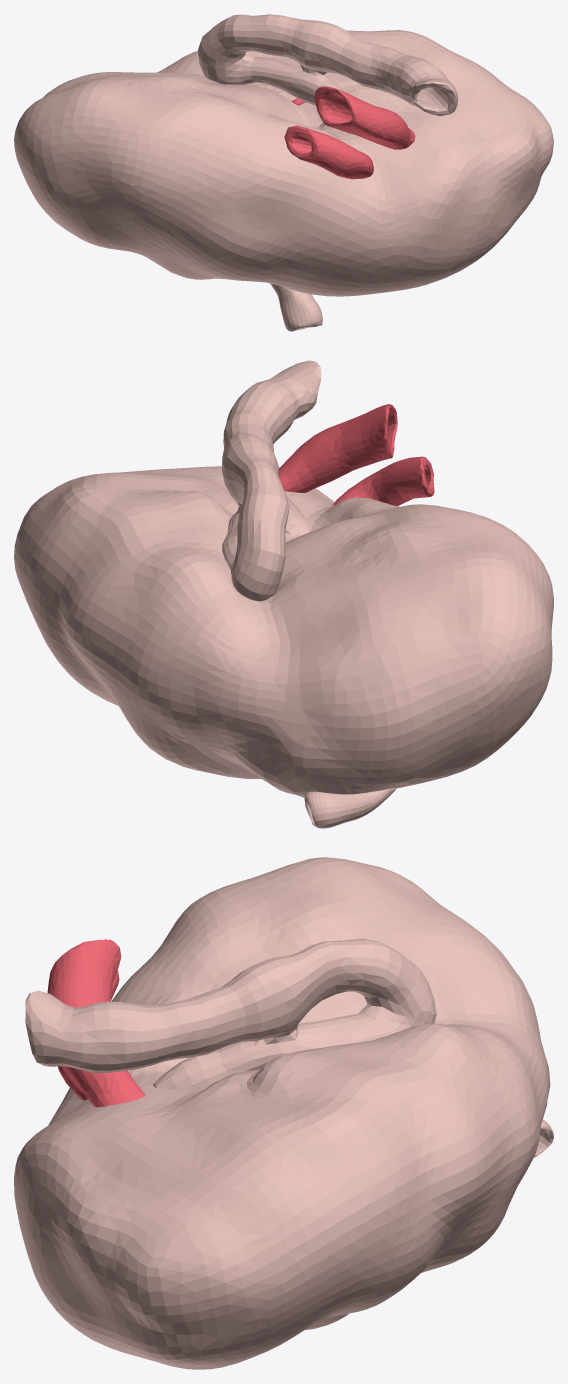
Rendered from NIH_M_Lymph_Node_0.6.glb.
3 renders of one model, top to bottom at view 1: azimuth 30°, elevation 25°; view 2: azimuth 150°, elevation 25°; view 3: azimuth 270°, elevation 25°, orthographic. The views are drawn at different scales.
Parts seen in each view (by area): view 1: Yao_capsule_of_lymph_node, Yao_efferent_lymph_node, Yao_blood_vasculature, Yao_afferent_lymphatic_vessel; view 2: Yao_capsule_of_lymph_node, Yao_efferent_lymph_node, Yao_blood_vasculature, Yao_afferent_lymphatic_vessel; view 3: Yao_capsule_of_lymph_node, Yao_efferent_lymph_node, Yao_blood_vasculature.
Boxes of the visible parts, x1,y1,x2,y2 form: Yao_capsule_of_lymph_node: (14, 30, 553, 296); Yao_efferent_lymph_node: (198, 14, 458, 132); Yao_blood_vasculature: (284, 86, 415, 179); Yao_afferent_lymphatic_vessel: (270, 283, 322, 331); Yao_capsule_of_lymph_node: (14, 466, 553, 797); Yao_efferent_lymph_node: (222, 360, 321, 601); Yao_blood_vasculature: (279, 404, 434, 505); Yao_afferent_lymphatic_vessel: (304, 788, 396, 828); Yao_capsule_of_lymph_node: (14, 857, 550, 1369); Yao_efferent_lymph_node: (25, 938, 436, 1088); Yao_blood_vasculature: (47, 939, 145, 1107).
Size of the model in its own units: 0.0183 by 0.0107 by 0.013.
